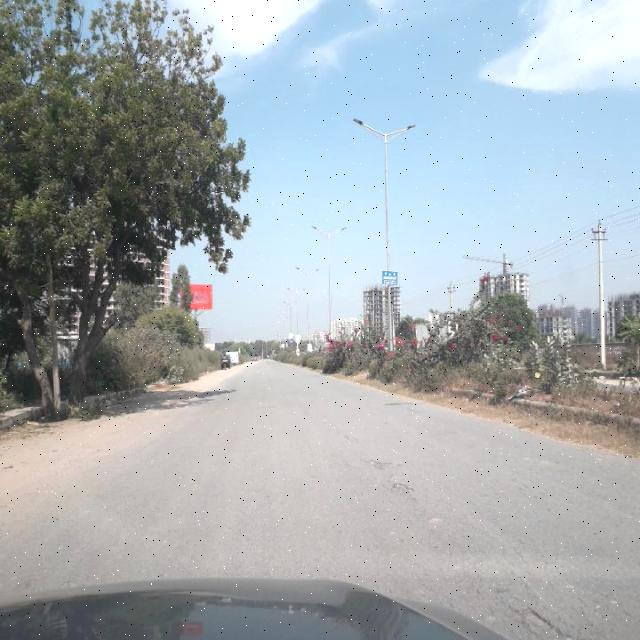D40: (511, 603, 580, 639), (422, 509, 464, 538), (385, 476, 427, 504), (360, 441, 402, 469)
